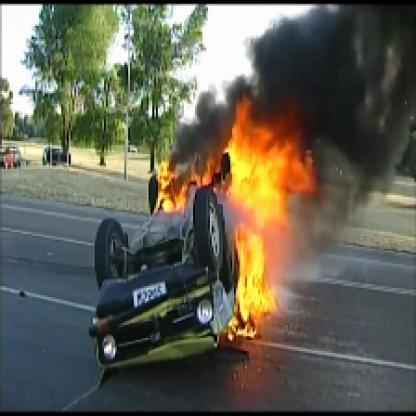Fire: (152, 85, 348, 340)
